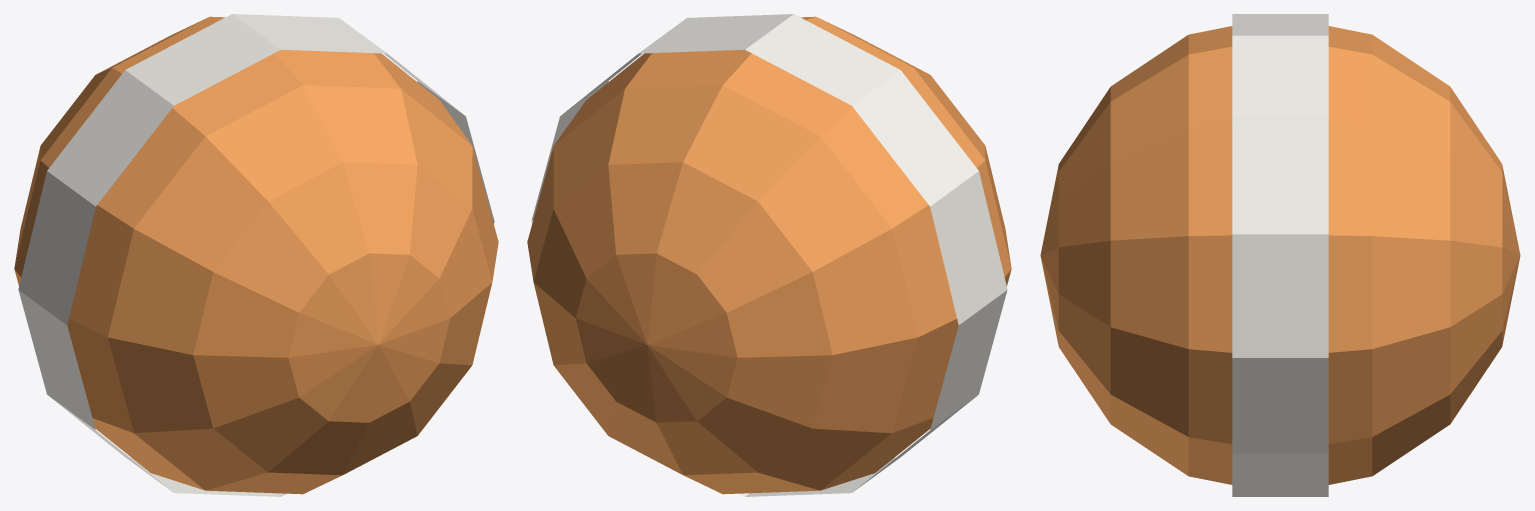
Rendered from X_BulletTopik.fbx.
3 views of the same model, side by side, from view 1: azimuth 30°, elevation 25°; view 2: azimuth 150°, elevation 25°; view 3: azimuth 270°, elevation 25° (orthographic).
Parts seen in each view (by area): view 1: X_BulletTopik; view 2: X_BulletTopik; view 3: X_BulletTopik.
Part boxes in pixels (x1,y1,x2,y2): X_BulletTopik: (14, 14, 498, 496); X_BulletTopik: (527, 14, 1011, 496); X_BulletTopik: (1040, 14, 1520, 496).
Bounding box in the file's own units: 0.303 × 0.303 × 0.3.
